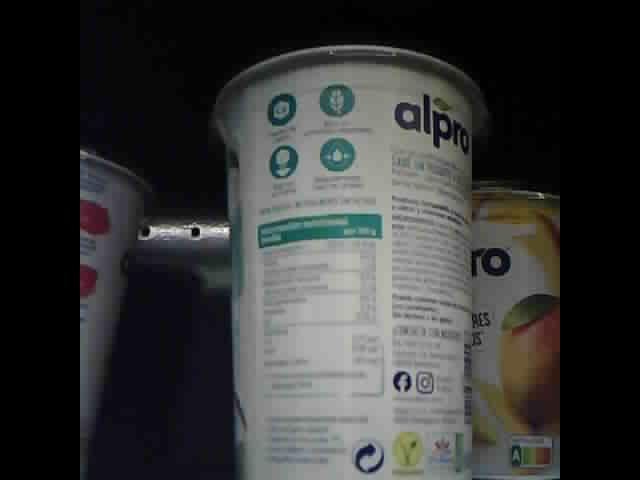alpro: (211, 45, 487, 480), (471, 177, 560, 480), (80, 142, 155, 479)
